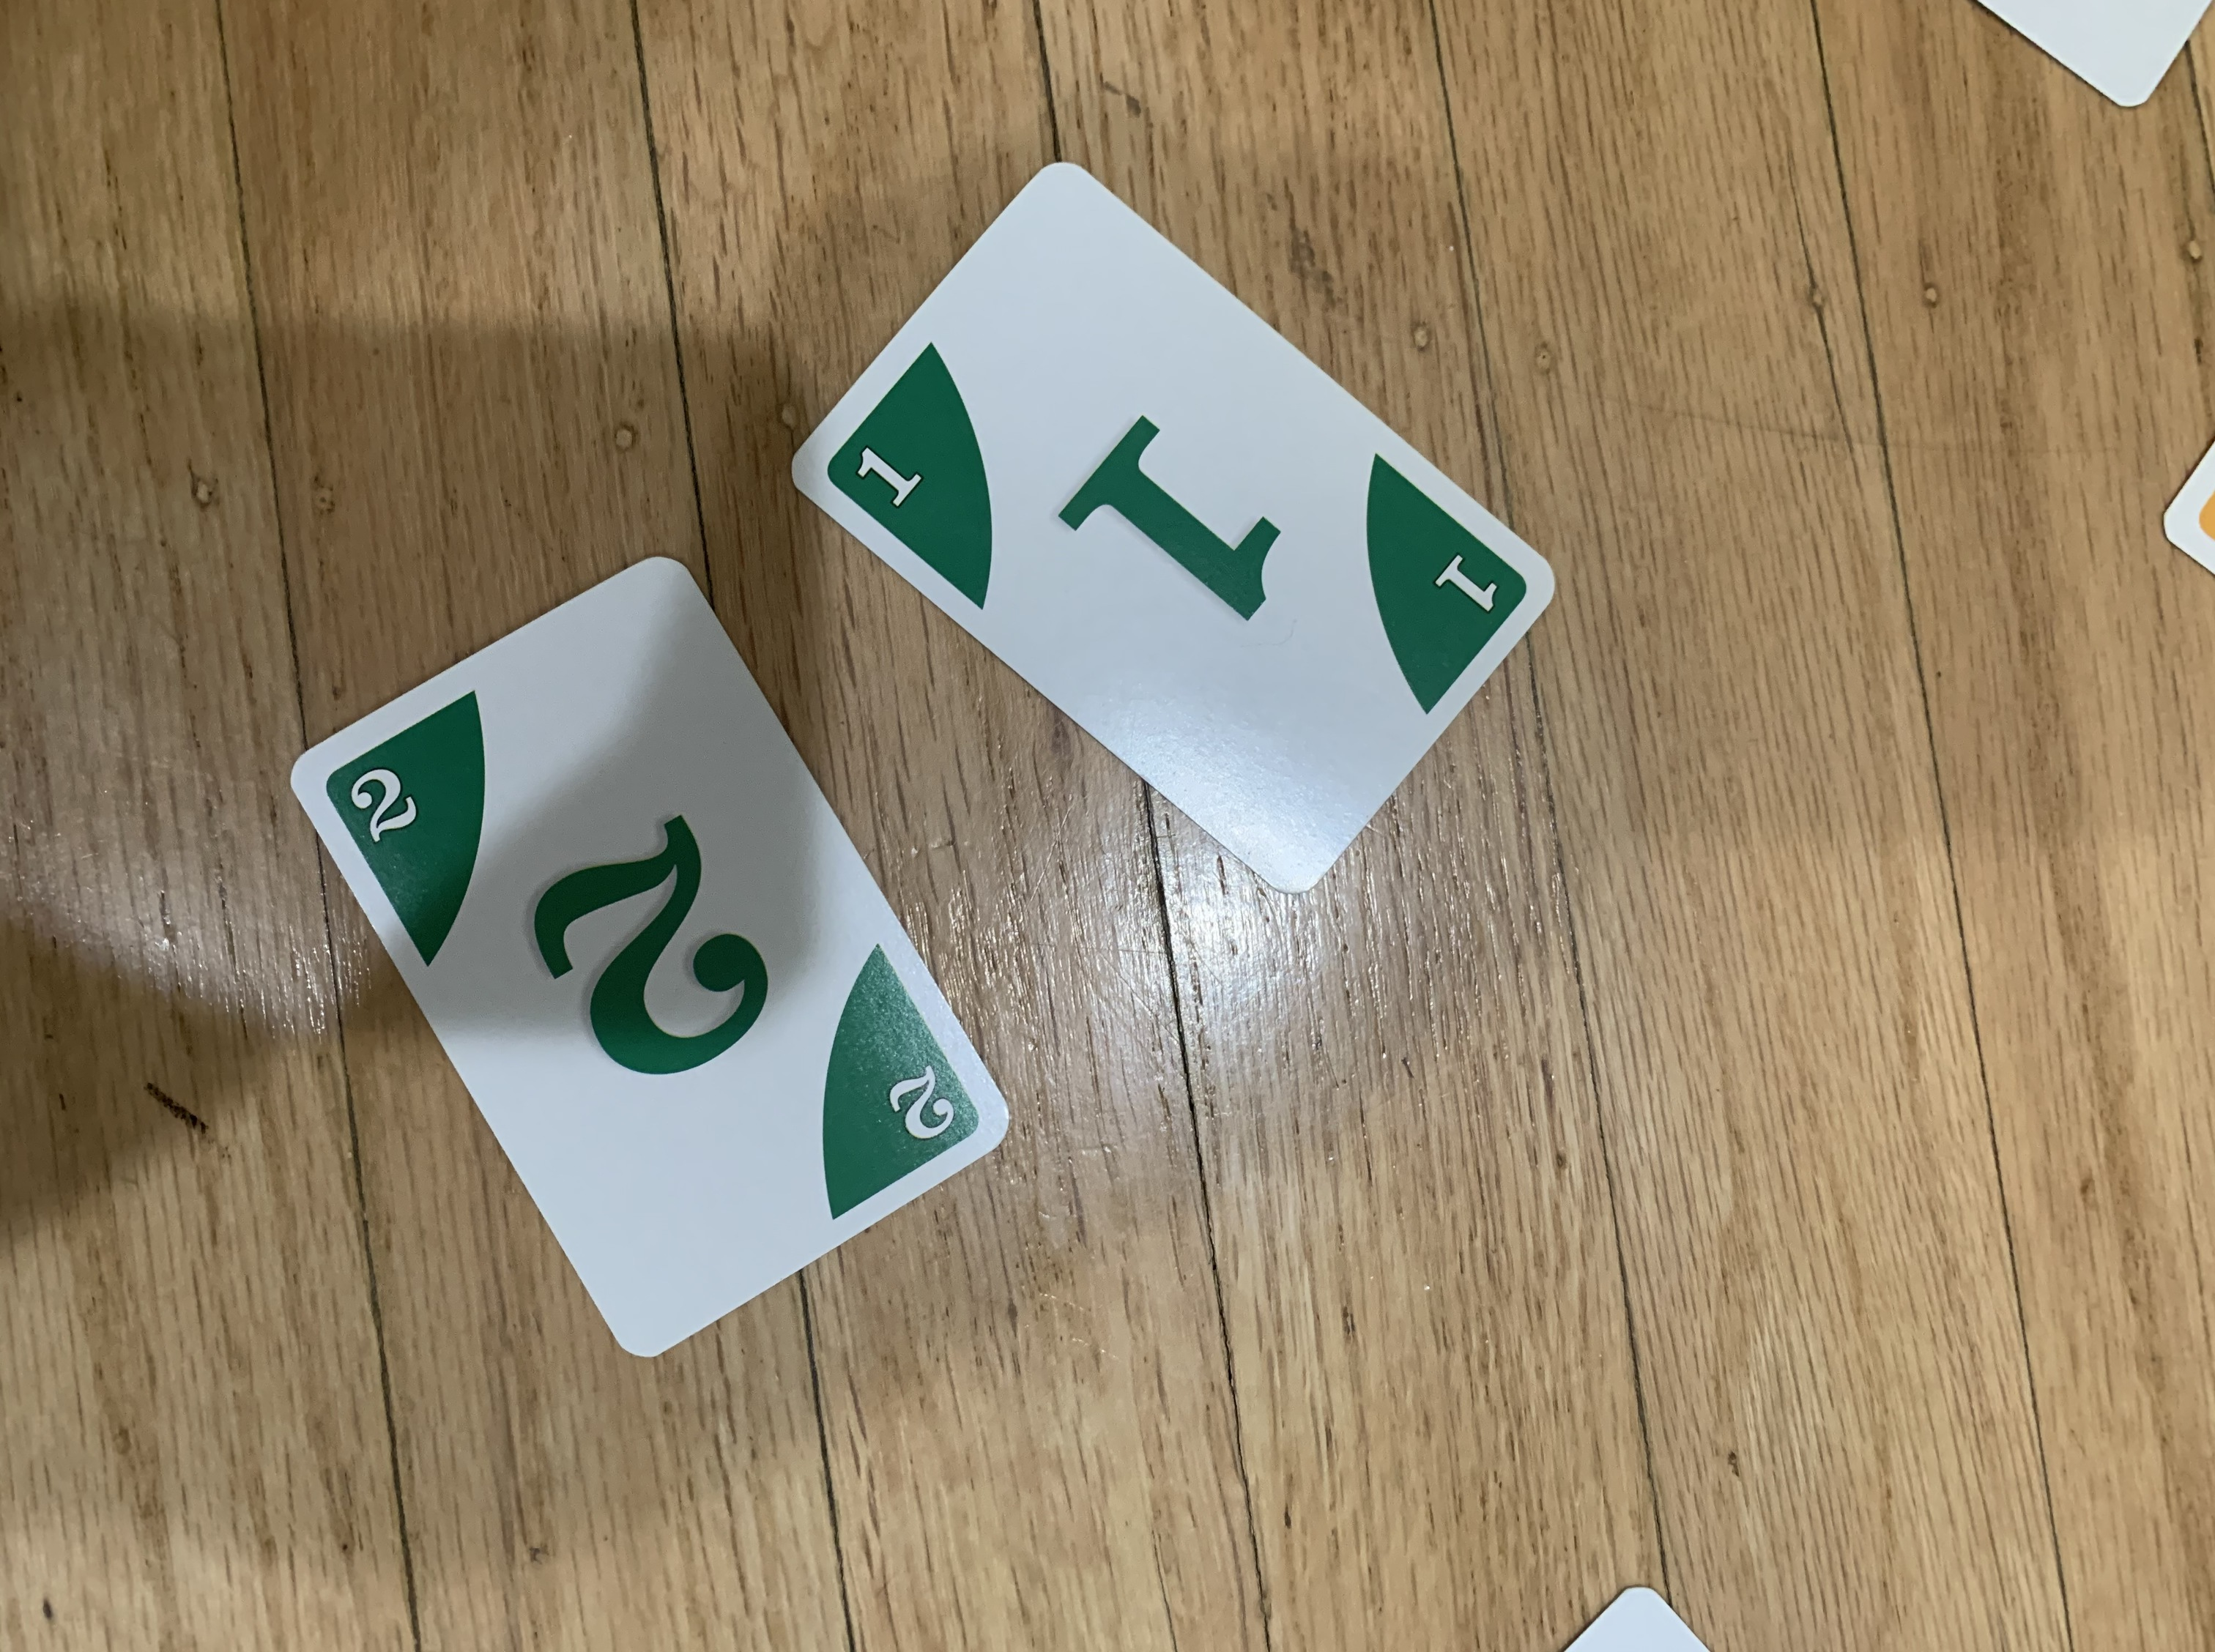one: (790, 147, 1573, 921)
two: (267, 548, 1017, 1392)
